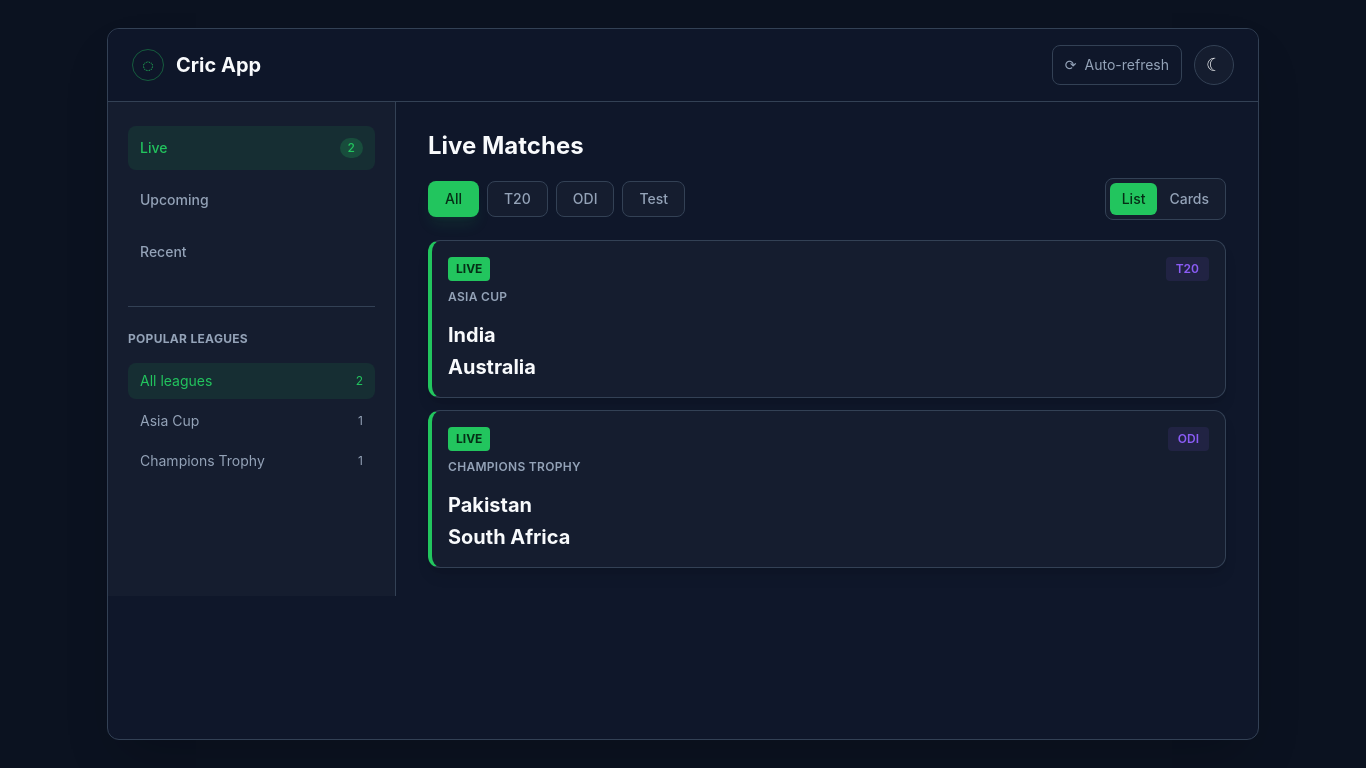
Scenario: MatchListPage › filters matches by match type
Check: the heading "India" is shown, box x1=448 y1=323 x2=496 y2=347
Check: the heading "Pakistan" is shown, box x1=448 y1=493 x2=532 y2=517
Click the button "ODI". click: (585, 199)
box: x1=556 y1=181 x2=614 y2=217
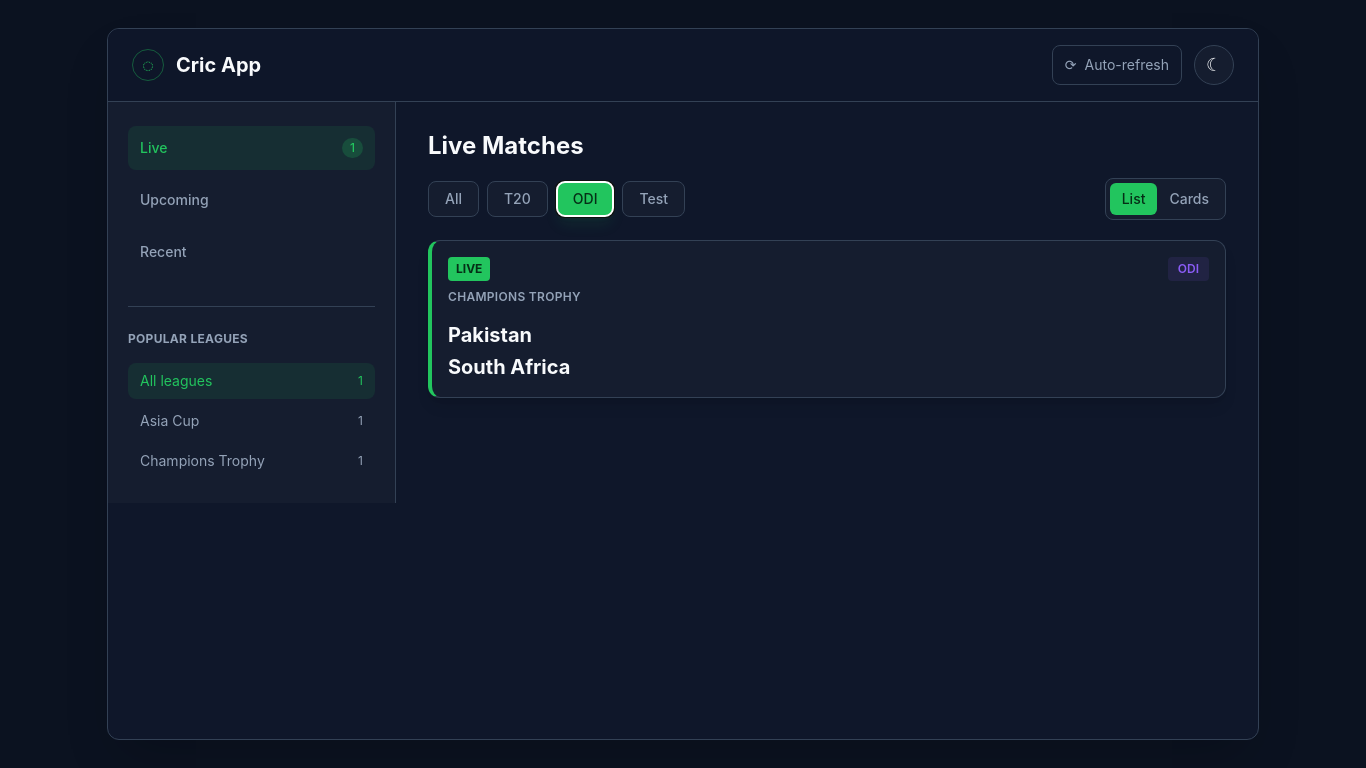
Check: the heading "Pakistan" is shown, box x1=448 y1=323 x2=532 y2=347
Check: the button "India" is gone
